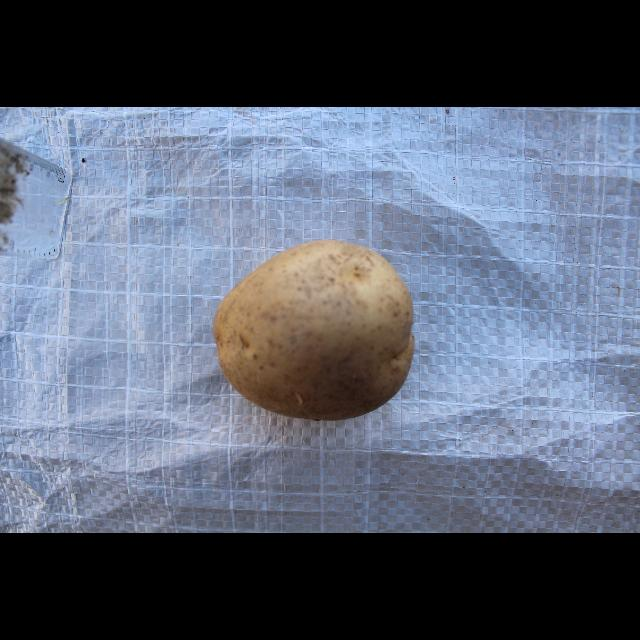Diseased-fungal potato: (225, 216, 430, 400)
